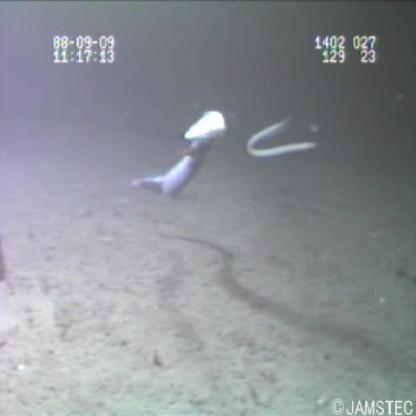Bio: (128, 105, 230, 209), (243, 103, 326, 165)
